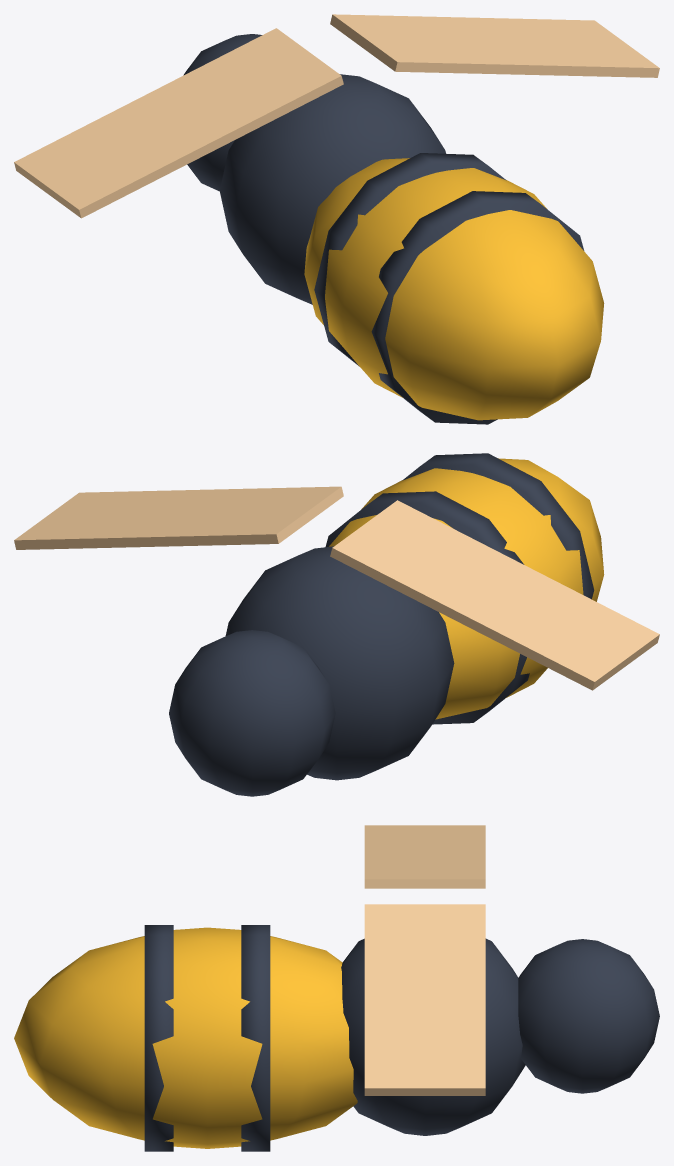
The model's file is wasp.glb.
The picture shows the model from 3 angles, top to bottom: view 1: azimuth 30°, elevation 25°; view 2: azimuth 150°, elevation 25°; view 3: azimuth 270°, elevation 25°; orthographic projection. The views are drawn at different scales.
Parts seen in each view (by area): view 1: wasp_abdomen, wasp_wing_r, wasp, wasp_wing_l, wasp_ring1, wasp_ring0, wasp_head; view 2: wasp, wasp_wing_r, wasp_head, wasp_abdomen, wasp_wing_l, wasp_ring0, wasp_ring1; view 3: wasp_abdomen, wasp_wing_l, wasp_head, wasp, wasp_wing_r, wasp_ring1, wasp_ring0.
Boxes of the visible parts, left/top/right/bottom form: wasp_abdomen: left=304, top=158, right=604, bottom=420; wasp_wing_r: left=14, top=28, right=343, bottom=218; wasp: left=219, top=74, right=445, bottom=304; wasp_wing_l: left=330, top=14, right=659, bottom=77; wasp_ring1: left=371, top=191, right=584, bottom=424; wasp_ring0: left=314, top=153, right=506, bottom=366; wasp_head: left=183, top=34, right=262, bottom=191; wasp: left=225, top=546, right=454, bottom=780; wasp_wing_r: left=330, top=500, right=659, bottom=690; wasp_head: left=169, top=630, right=335, bottom=796; wasp_abdomen: left=329, top=458, right=604, bottom=719; wasp_wing_l: left=14, top=486, right=343, bottom=549; wasp_ring0: left=325, top=491, right=529, bottom=724; wasp_ring1: left=402, top=453, right=594, bottom=599; wasp_abdomen: left=14, top=927, right=357, bottom=1148; wasp_wing_l: left=364, top=904, right=485, bottom=1095; wasp_head: left=518, top=939, right=659, bottom=1093; wasp: left=341, top=938, right=525, bottom=1135; wasp_wing_r: left=364, top=825, right=485, bottom=888; wasp_ring1: left=144, top=925, right=173, bottom=1151; wasp_ring0: left=241, top=925, right=270, bottom=1151.
Size of the model in its own units: 0.2573 by 0.1138 by 0.267.
